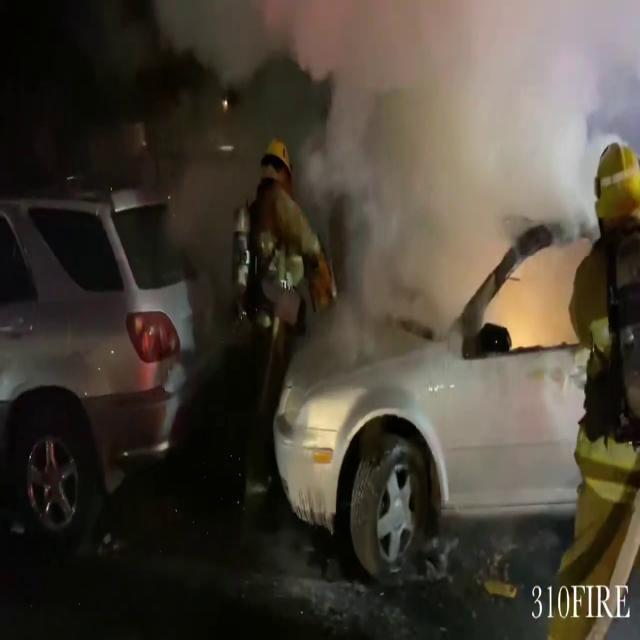Smoke: (302, 0, 608, 312)
